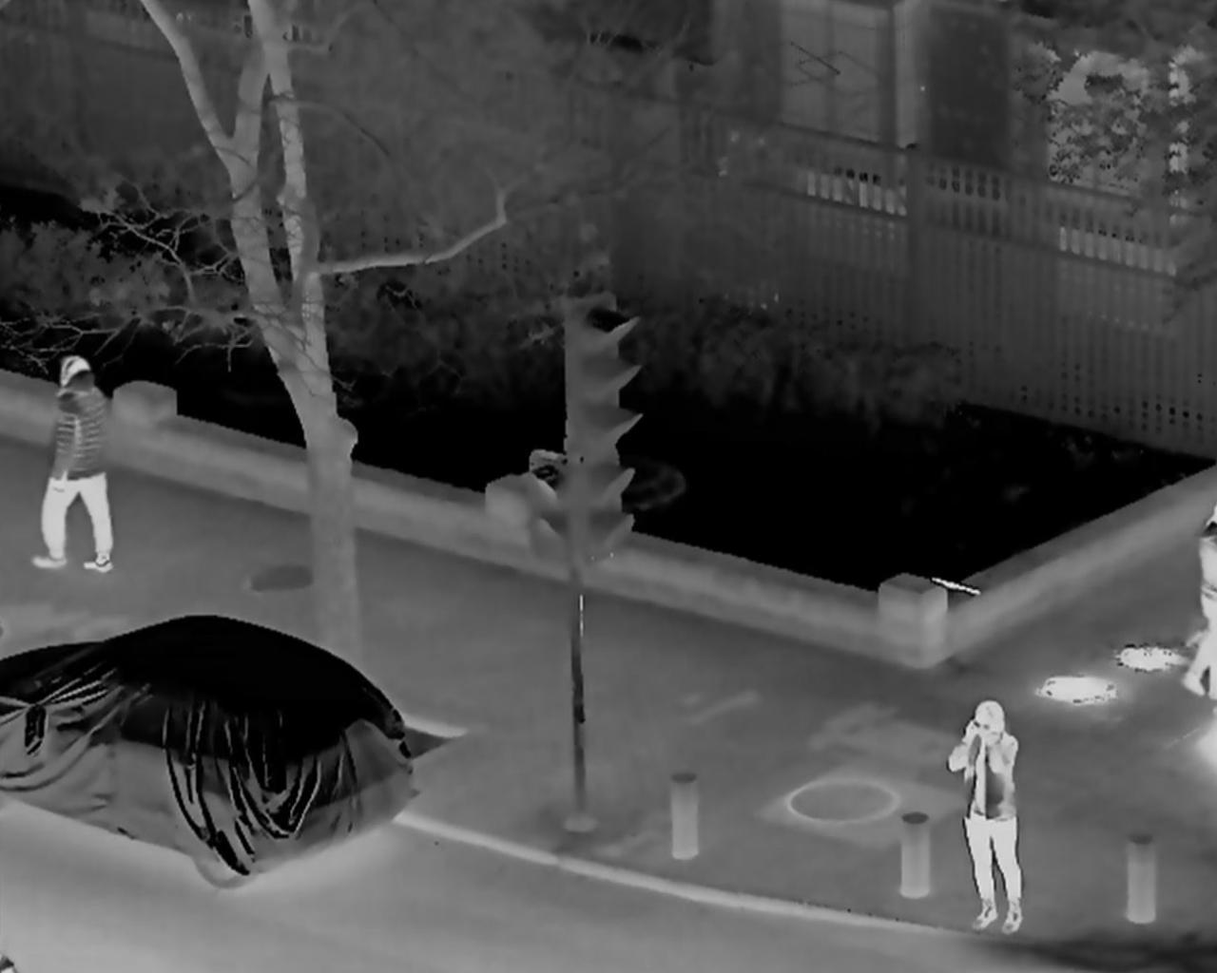person: (26, 356, 120, 576), (950, 701, 1029, 940)
